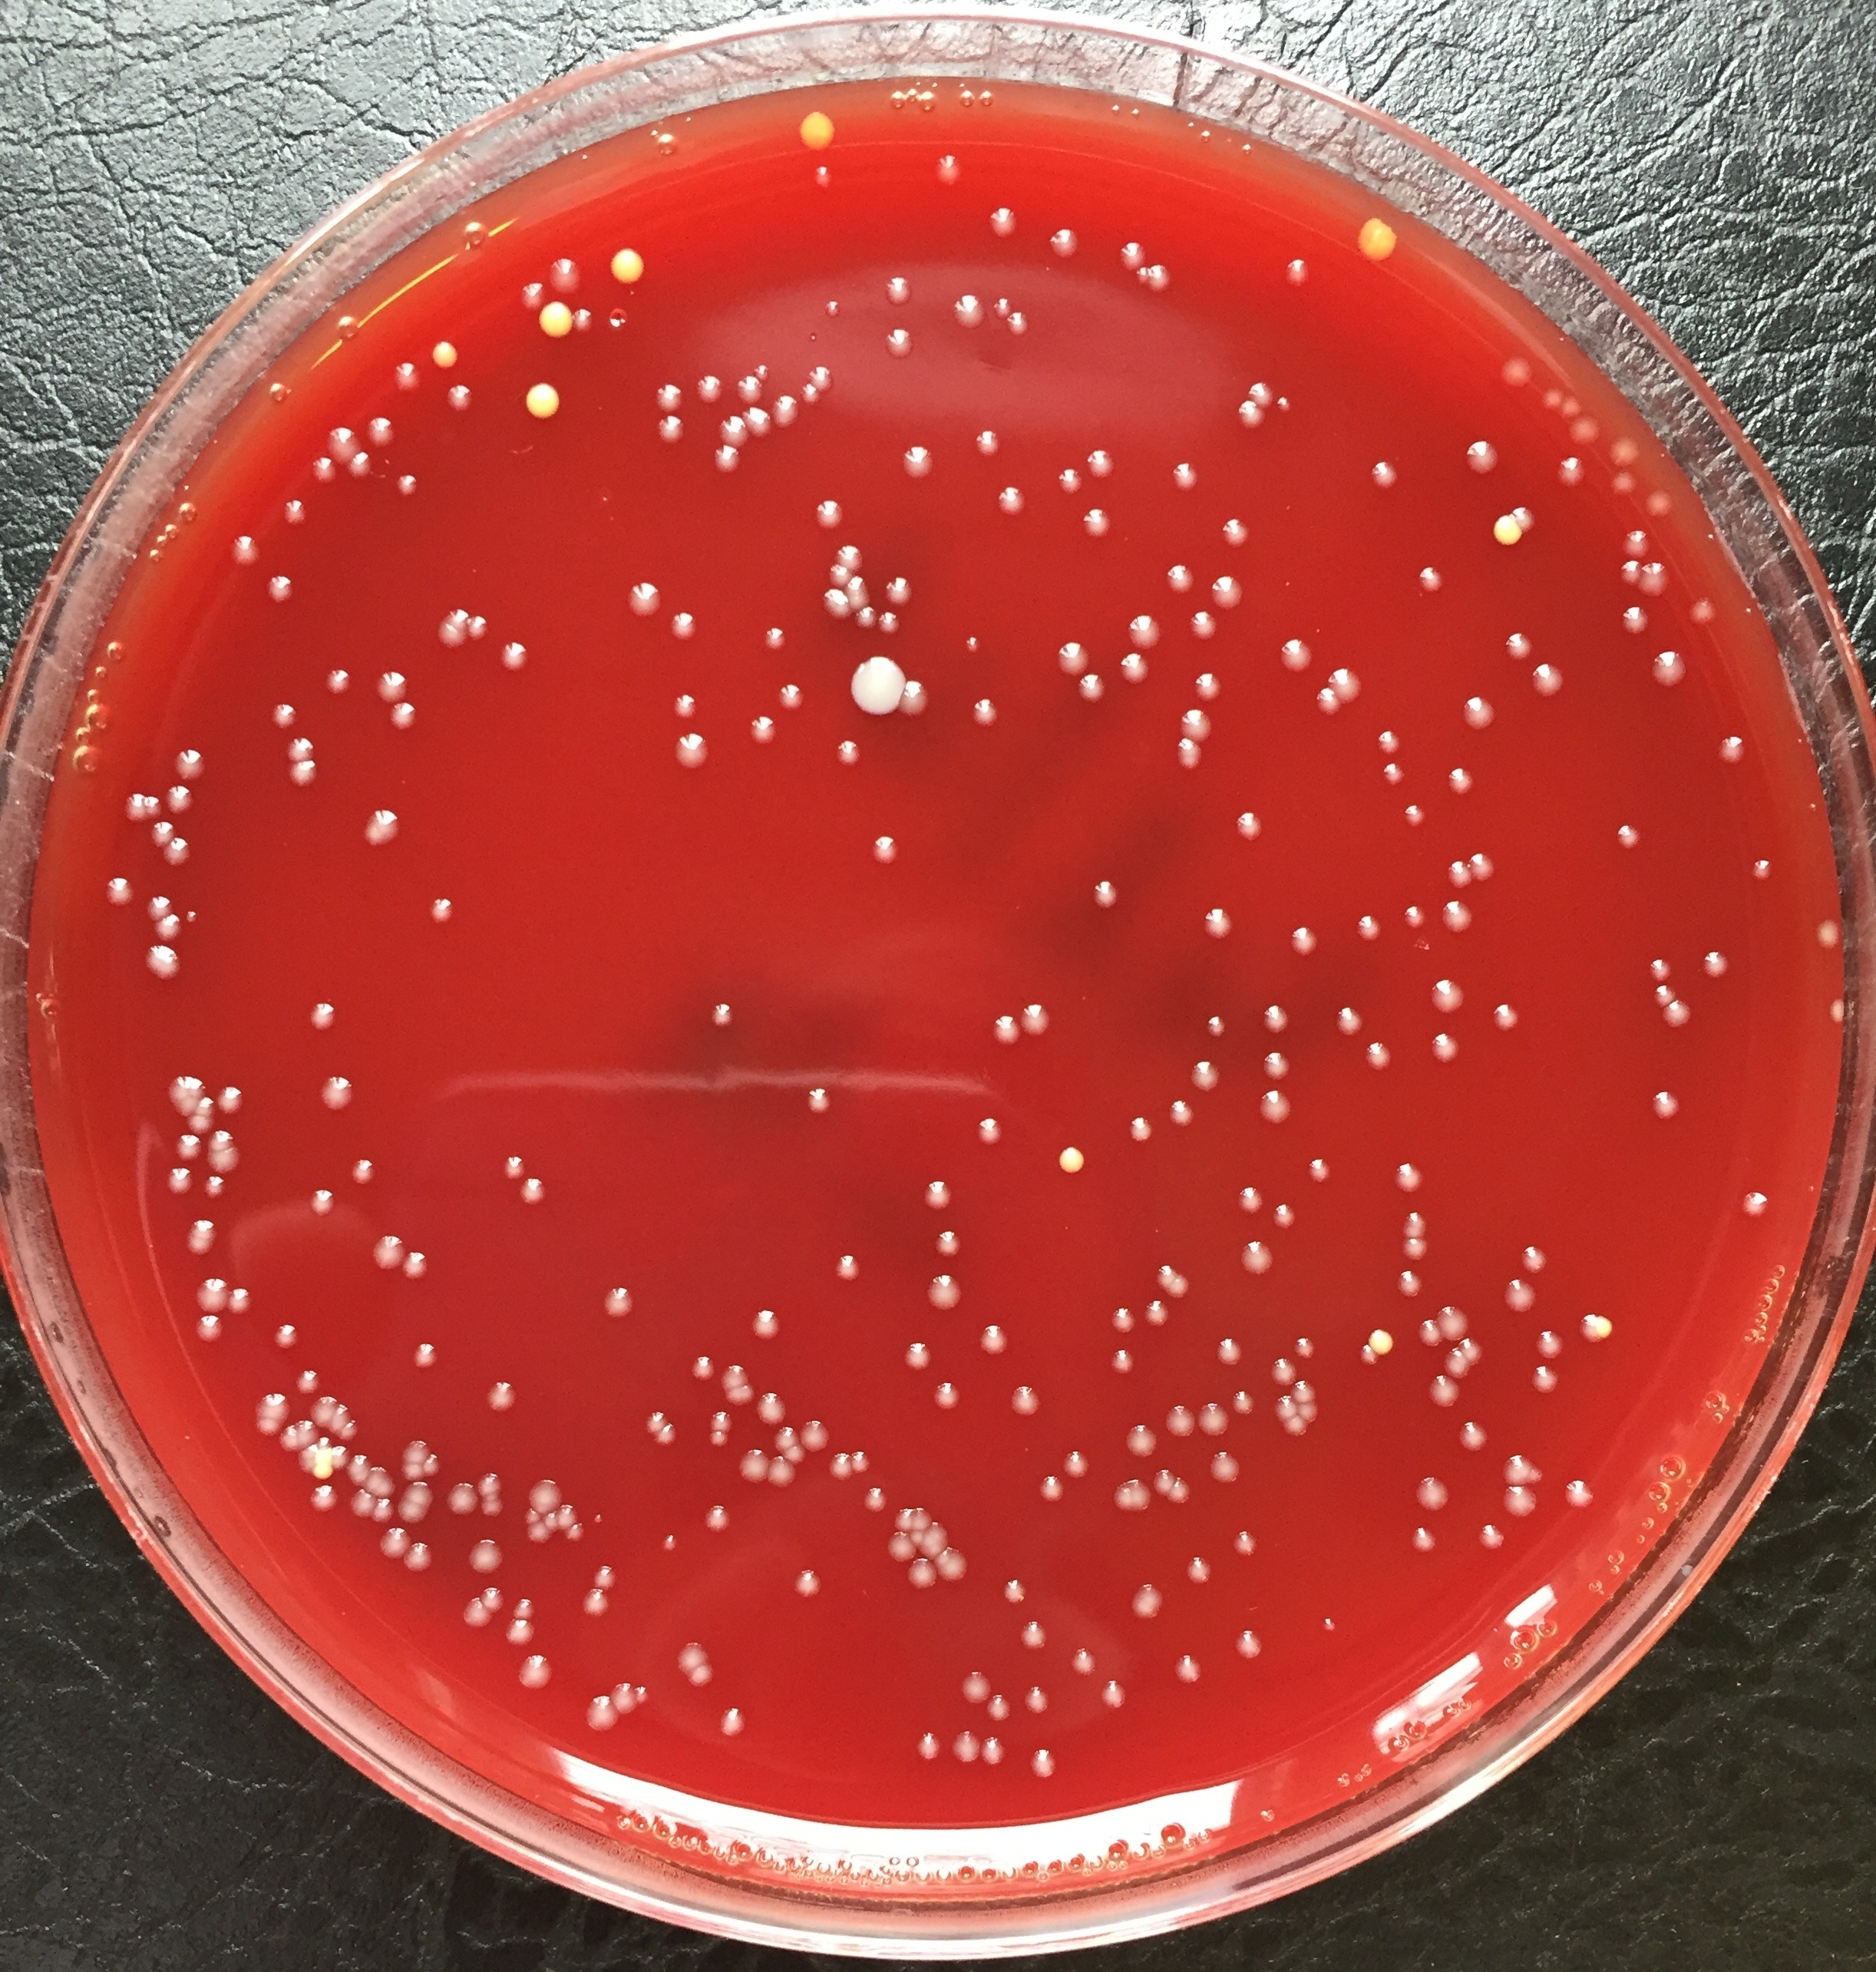sp06: (586, 1275, 648, 1342), (785, 1065, 854, 1123), (852, 822, 915, 875), (1015, 990, 1065, 1051), (1802, 901, 1853, 956), (1818, 984, 1857, 1055), (1645, 644, 1695, 699), (919, 1157, 957, 1222), (1040, 210, 1082, 268), (975, 192, 1019, 246), (310, 655, 355, 706), (873, 259, 920, 306), (359, 803, 408, 847), (1197, 898, 1237, 951), (257, 569, 304, 613), (1125, 1107, 1167, 1157), (692, 995, 743, 1035), (438, 379, 489, 419), (1082, 438, 1126, 484), (963, 1104, 1010, 1146), (818, 1236, 861, 1284), (977, 1009, 1019, 1056), (275, 493, 317, 541), (1235, 1233, 1276, 1282), (1088, 868, 1125, 921), (1424, 977, 1468, 1021), (739, 1303, 781, 1347), (495, 634, 539, 676), (313, 1071, 357, 1113), (1230, 1623, 1274, 1666), (1499, 1273, 1540, 1319), (1698, 944, 1744, 984), (250, 1389, 285, 1440), (880, 326, 922, 368), (1748, 852, 1790, 894), (1601, 428, 1644, 470), (1125, 1578, 1165, 1622), (1462, 435, 1503, 479), (899, 438, 940, 482), (1554, 447, 1593, 493), (224, 528, 260, 576), (461, 1535, 509, 1572), (1278, 630, 1315, 678), (801, 157, 836, 206), (510, 1652, 551, 1694), (1151, 1259, 1193, 1299), (1051, 632, 1091, 674), (1213, 511, 1255, 551), (625, 579, 663, 623), (924, 1273, 963, 1317), (1647, 1086, 1691, 1125), (1445, 761, 1484, 805), (1413, 1472, 1450, 1518), (1559, 1472, 1596, 1518), (1529, 655, 1566, 701), (1329, 662, 1366, 708), (1498, 349, 1533, 396), (1163, 1653, 1213, 1687), (1714, 725, 1755, 766), (1457, 694, 1498, 734), (1202, 1447, 1244, 1486), (1112, 1474, 1151, 1516), (1253, 1092, 1295, 1130), (398, 1481, 435, 1525), (934, 1548, 971, 1592), (991, 1569, 1035, 1606), (1617, 597, 1654, 641), (547, 252, 583, 298), (1498, 1451, 1543, 1486), (1612, 815, 1647, 861), (433, 607, 466, 655), (1125, 609, 1163, 650), (120, 785, 162, 822), (185, 1218, 222, 1261), (164, 1072, 201, 1115), (1501, 1484, 1543, 1521), (1170, 1093, 1205, 1137), (671, 732, 709, 771), (190, 1275, 229, 1313), (1183, 602, 1221, 641), (517, 1176, 554, 1217), (480, 1379, 521, 1416), (1207, 570, 1244, 611), (1077, 502, 1114, 542), (169, 745, 211, 780), (143, 940, 178, 982), (583, 1694, 618, 1736), (1024, 1741, 1058, 1785), (1008, 1377, 1042, 1421), (1491, 1000, 1524, 1044), (306, 997, 343, 1035), (1389, 1159, 1427, 1196), (1737, 1185, 1776, 1222), (968, 692, 1005, 731), (971, 419, 1008, 458), (1411, 560, 1448, 599), (741, 710, 776, 750), (1197, 1398, 1232, 1439), (1455, 1417, 1492, 1454), (1283, 924, 1320, 961), (1232, 806, 1267, 845), (898, 676, 933, 715), (956, 1669, 994, 1704), (1424, 1028, 1459, 1067), (1440, 903, 1478, 938), (950, 292, 986, 331), (1123, 1419, 1156, 1460), (1118, 650, 1151, 690), (371, 669, 414, 701), (1232, 1523, 1264, 1565), (1529, 1365, 1561, 1407), (1163, 1402, 1195, 1444), (1077, 669, 1109, 711), (1169, 451, 1200, 493), (370, 1233, 399, 1277), (324, 426, 359, 463), (410, 1338, 445, 1375), (276, 1421, 313, 1456), (674, 1636, 709, 1673), (1213, 1333, 1248, 1370), (1257, 1000, 1293, 1035), (1160, 562, 1197, 597), (1498, 629, 1535, 664), (1686, 592, 1721, 629), (1281, 254, 1318, 289), (667, 606, 700, 644), (1098, 1674, 1132, 1713), (977, 1319, 1010, 1358), (737, 1446, 769, 1486), (1378, 759, 1418, 791), (266, 695, 296, 738), (1269, 1194, 1299, 1236), (389, 706, 424, 741), (832, 738, 868, 773), (753, 1389, 788, 1424), (524, 1474, 560, 1509), (1332, 1002, 1367, 1037), (820, 588, 854, 625), (190, 1313, 227, 1347), (308, 1483, 341, 1519), (1475, 1519, 1508, 1556), (1232, 1180, 1265, 1217), (1517, 1241, 1554, 1275), (1186, 1058, 1223, 1092), (1177, 708, 1214, 741), (1114, 234, 1147, 271), (377, 1527, 408, 1565), (445, 1477, 477, 1516), (994, 479, 1026, 518), (1022, 1680, 1052, 1720), (933, 1375, 963, 1416), (1471, 849, 1499, 891), (1014, 1616, 1049, 1650), (1533, 1326, 1566, 1361), (421, 893, 458, 924), (102, 872, 134, 909), (767, 1456, 799, 1493), (1066, 1641, 1098, 1678), (1183, 1551, 1214, 1588), (1661, 1002, 1698, 1034), (347, 1484, 377, 1523), (1411, 1313, 1441, 1352), (771, 393, 799, 433), (1441, 1301, 1469, 1342), (655, 414, 688, 447), (802, 361, 836, 394), (285, 759, 319, 792), (343, 1157, 377, 1190), (1264, 1354, 1297, 1387), (1617, 525, 1651, 558), (165, 784, 197, 819), (699, 1502, 730, 1537), (1227, 1384, 1262, 1416), (929, 1227, 964, 1259), (1191, 671, 1227, 703), (1366, 458, 1401, 489), (933, 148, 963, 185), (667, 692, 704, 722), (577, 1590, 614, 1620), (950, 1729, 980, 1766), (1107, 1345, 1137, 1382), (1642, 562, 1672, 599), (913, 1729, 942, 1768), (1443, 854, 1471, 893), (1311, 685, 1339, 724), (220, 1079, 246, 1120), (1061, 1442, 1088, 1483), (714, 414, 746, 447), (743, 407, 774, 440), (459, 1597, 491, 1630), (605, 1680, 637, 1713), (1406, 1523, 1440, 1555), (1399, 799, 1431, 833), (1374, 725, 1408, 757), (516, 278, 546, 313), (651, 384, 686, 414), (901, 1338, 931, 1373), (794, 1565, 824, 1600), (1257, 1049, 1292, 1079), (1172, 741, 1202, 776), (1642, 486, 1677, 516), (802, 1417, 831, 1454), (370, 1456, 398, 1493), (722, 1708, 750, 1745), (394, 472, 421, 511), (859, 1483, 890, 1514), (905, 1558, 936, 1590), (1302, 1157, 1334, 1188), (1570, 414, 1601, 445), (368, 414, 398, 447), (304, 1187, 334, 1220), (174, 1134, 204, 1167), (1035, 1474, 1068, 1504), (1394, 1268, 1424, 1301), (1366, 1042, 1396, 1076), (1355, 910, 1383, 946), (695, 372, 722, 408), (347, 451, 373, 488), (920, 1518, 947, 1555), (980, 1733, 1007, 1770), (1399, 1236, 1436, 1262), (1607, 467, 1644, 493), (709, 445, 741, 475), (1105, 1303, 1137, 1333), (1237, 401, 1269, 431), (407, 1542, 435, 1576), (1649, 979, 1677, 1012), (165, 1166, 192, 1201), (690, 1350, 716, 1386), (1142, 1296, 1169, 1331), (846, 572, 871, 609), (208, 1152, 245, 1176), (403, 1248, 428, 1285), (348, 1449, 373, 1486), (389, 357, 419, 387), (734, 375, 764, 405), (306, 456, 336, 486), (164, 840, 194, 870), (1401, 1208, 1431, 1238), (1399, 901, 1429, 931), (815, 497, 843, 528), (1443, 1349, 1471, 1380), (1244, 379, 1276, 407), (398, 1435, 431, 1461), (1170, 1479, 1197, 1512), (229, 1284, 253, 1319), (1056, 461, 1081, 497), (836, 541, 864, 570), (370, 1495, 398, 1525), (570, 308, 597, 340), (778, 681, 804, 713), (331, 1398, 355, 1431), (885, 1530, 913, 1558), (1642, 954, 1670, 982), (720, 1361, 750, 1387), (294, 1366, 320, 1396), (723, 1384, 755, 1409), (773, 1423, 797, 1454), (1147, 261, 1172, 292), (878, 606, 901, 639), (829, 1451, 852, 1484), (762, 625, 788, 653), (146, 820, 172, 849), (273, 1322, 301, 1349), (1579, 1310, 1600, 1345), (1429, 1377, 1457, 1403), (466, 611, 491, 641), (883, 572, 908, 602), (500, 1152, 524, 1181), (204, 1174, 229, 1204), (655, 1423, 679, 1453), (505, 1620, 535, 1645), (1283, 1417, 1313, 1442), (285, 738, 317, 761), (989, 1694, 1012, 1725), (144, 894, 171, 921), (208, 1125, 234, 1152), (475, 1468, 502, 1495), (1202, 1011, 1228, 1037), (480, 1583, 505, 1611), (1508, 504, 1536, 528), (991, 294, 1015, 322), (818, 296, 841, 326), (706, 1409, 736, 1431), (313, 1393, 336, 1423), (560, 1498, 583, 1528), (797, 384, 824, 408), (155, 917, 181, 942), (642, 1409, 667, 1435), (890, 1504, 917, 1528), (690, 1666, 714, 1692), (565, 1523, 590, 1549), (1293, 1331, 1318, 1358), (1297, 1402, 1323, 1426), (1457, 1336, 1484, 1361), (1007, 312, 1031, 338), (510, 1595, 535, 1620), (593, 1565, 619, 1588), (1617, 562, 1644, 585), (480, 1500, 509, 1521), (850, 1446, 869, 1475), (1543, 382, 1563, 412), (341, 1417, 364, 1442), (526, 1521, 549, 1546), (1293, 1377, 1318, 1400), (706, 1430, 732, 1451), (964, 632, 986, 659), (825, 565, 850, 586), (855, 607, 876, 632), (1154, 1468, 1174, 1495), (187, 1115, 209, 1136), (399, 1461, 424, 1481), (1276, 1394, 1295, 1419), (192, 1093, 213, 1115), (1323, 1608, 1337, 1639), (1566, 393, 1582, 421), (424, 1453, 443, 1475), (1355, 1342, 1373, 1366), (333, 1447, 348, 1474), (751, 361, 771, 382), (294, 1451, 311, 1474), (915, 1504, 931, 1528), (787, 1447, 806, 1467), (547, 1509, 561, 1535), (521, 1507, 542, 1525), (1274, 394, 1292, 416), (662, 1534, 679, 1553), (1135, 264, 1149, 287), (313, 1433, 333, 1449), (637, 1680, 648, 1708), (187, 907, 201, 926), (908, 1527, 922, 1546), (593, 1511, 605, 1523)
